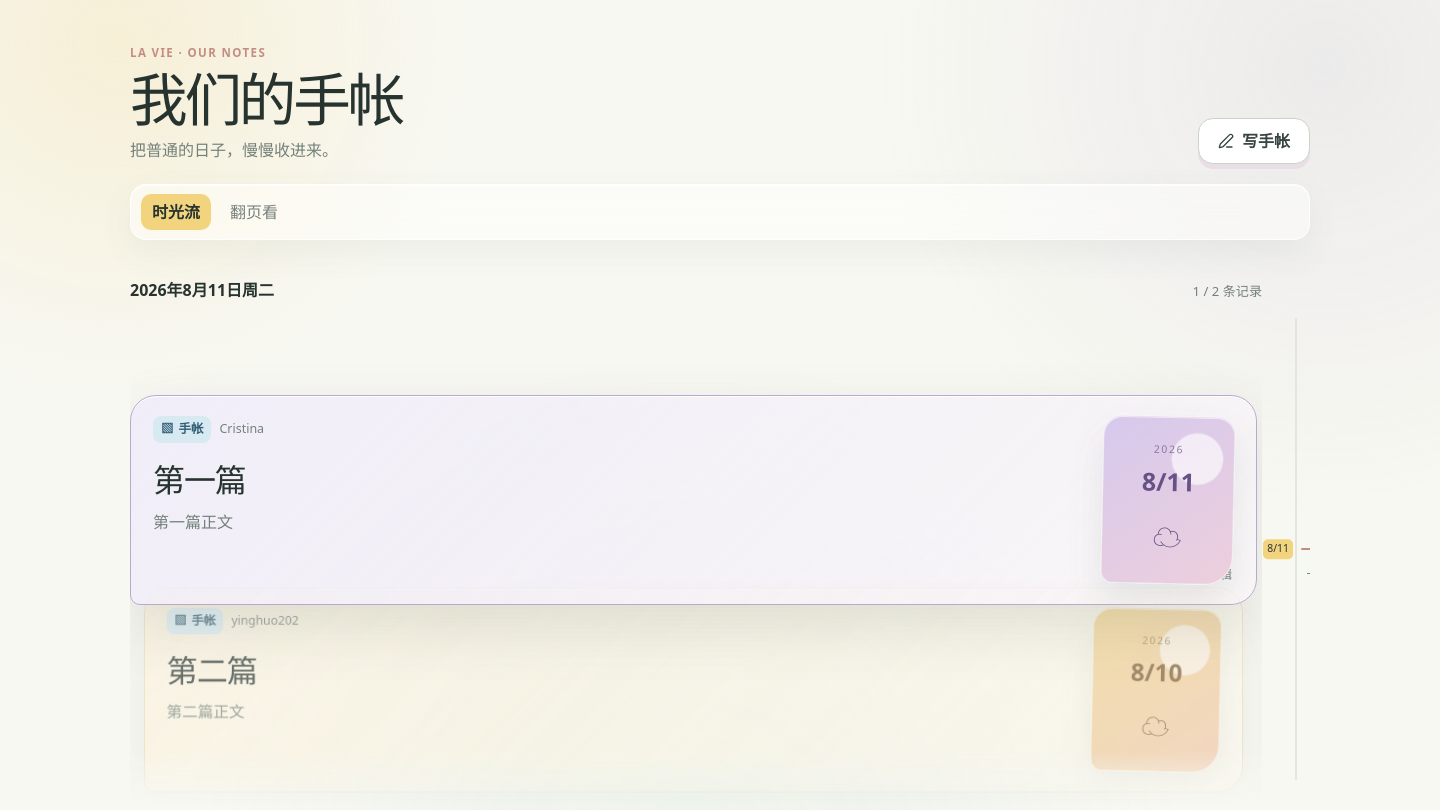
Test: JournalWorkspace › adds a comment directly below the long-pressed paragraph
The width and height of the screenshot is (1440, 810).
Expected: the heading "第一篇" is shown, top-left (153, 458), bottom-right (246, 501)
Click the tab "翻页看" at (254, 212), box top-left (219, 194), bottom-right (289, 230)
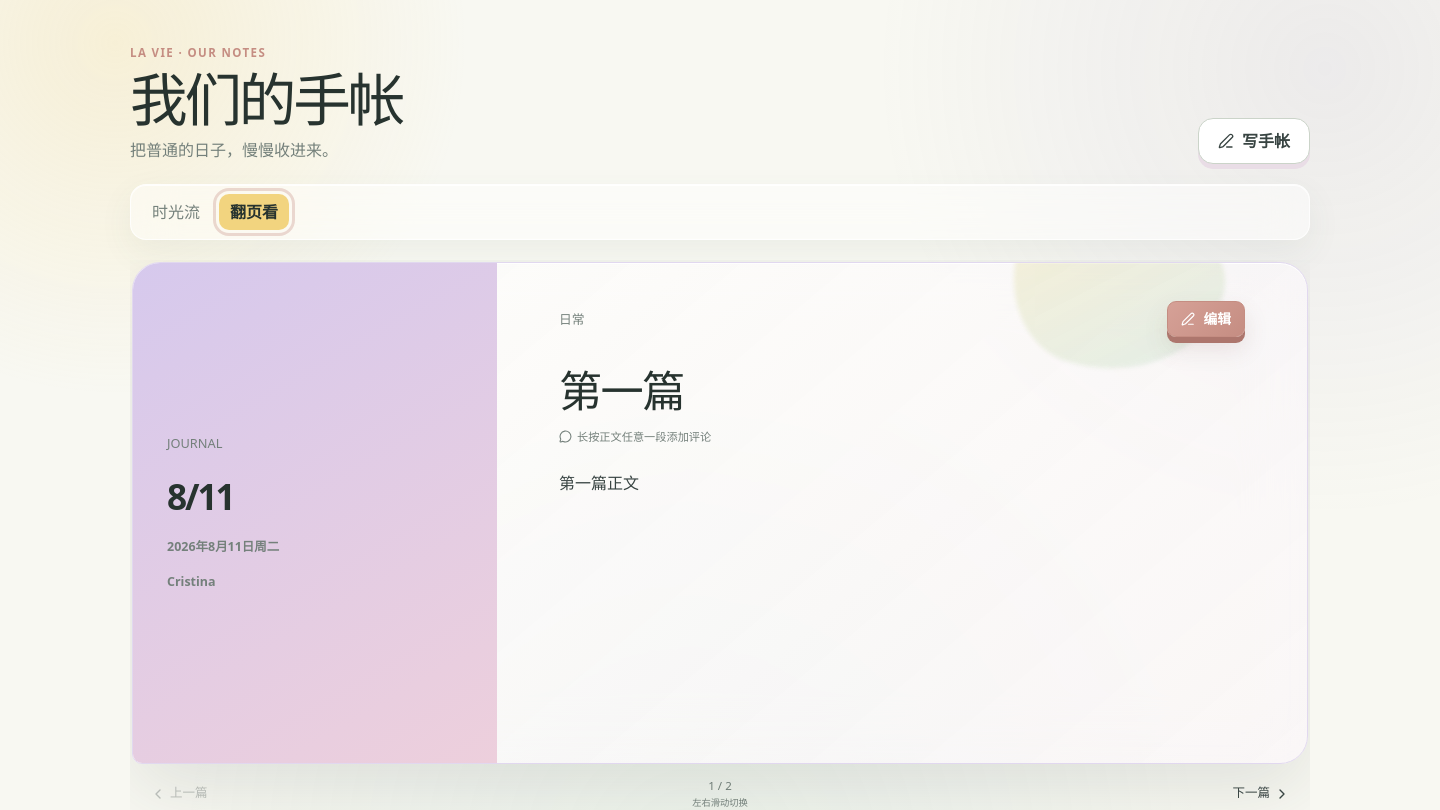
Press the mouse on the element named "正文第 1 段，长按添加评论" at (599, 484), box top-left (559, 475), bottom-right (639, 492)
Wait 530 ms
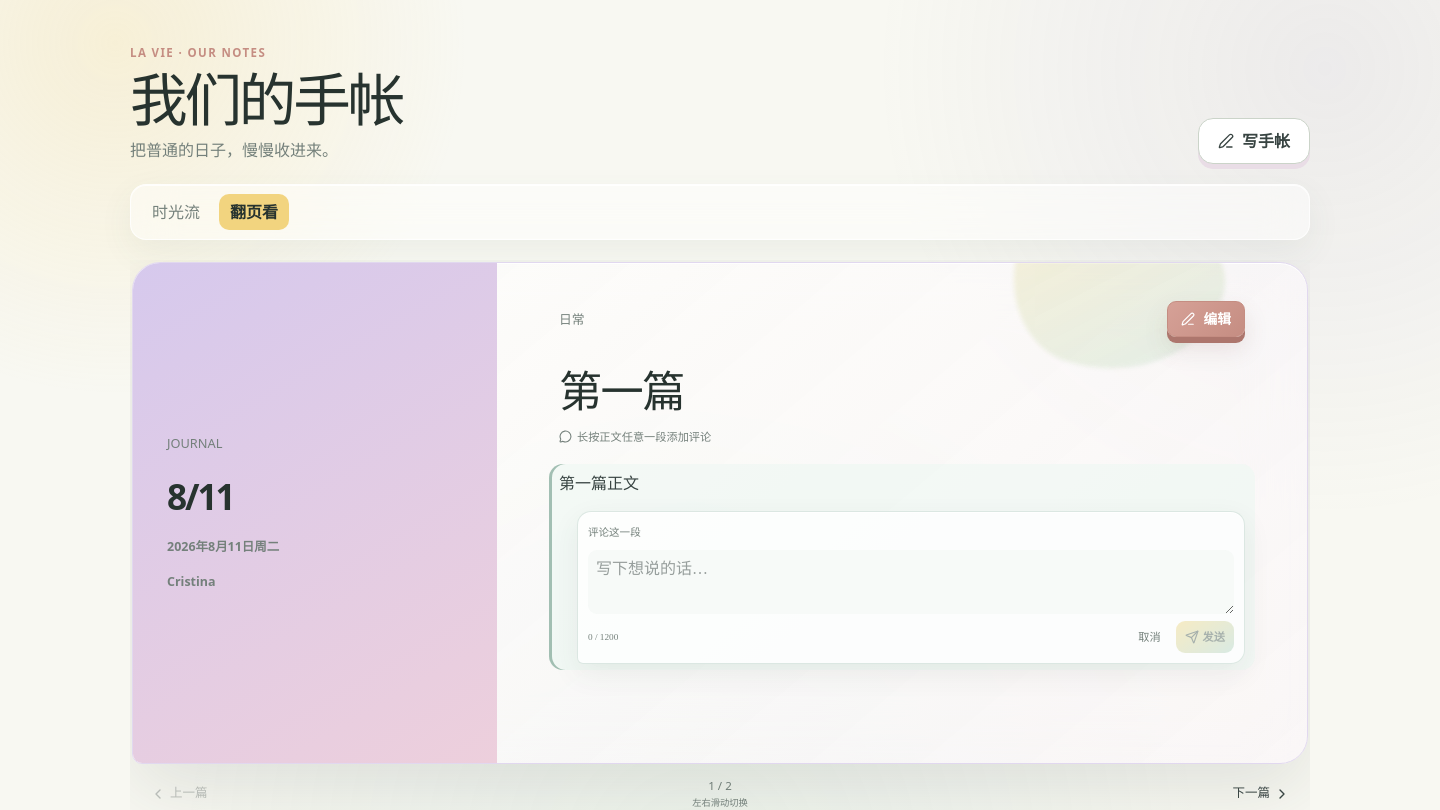
Type "我也记得" into the text box with placeholder "写下想说的话…" at (911, 582), box top-left (588, 550), bottom-right (1234, 614)
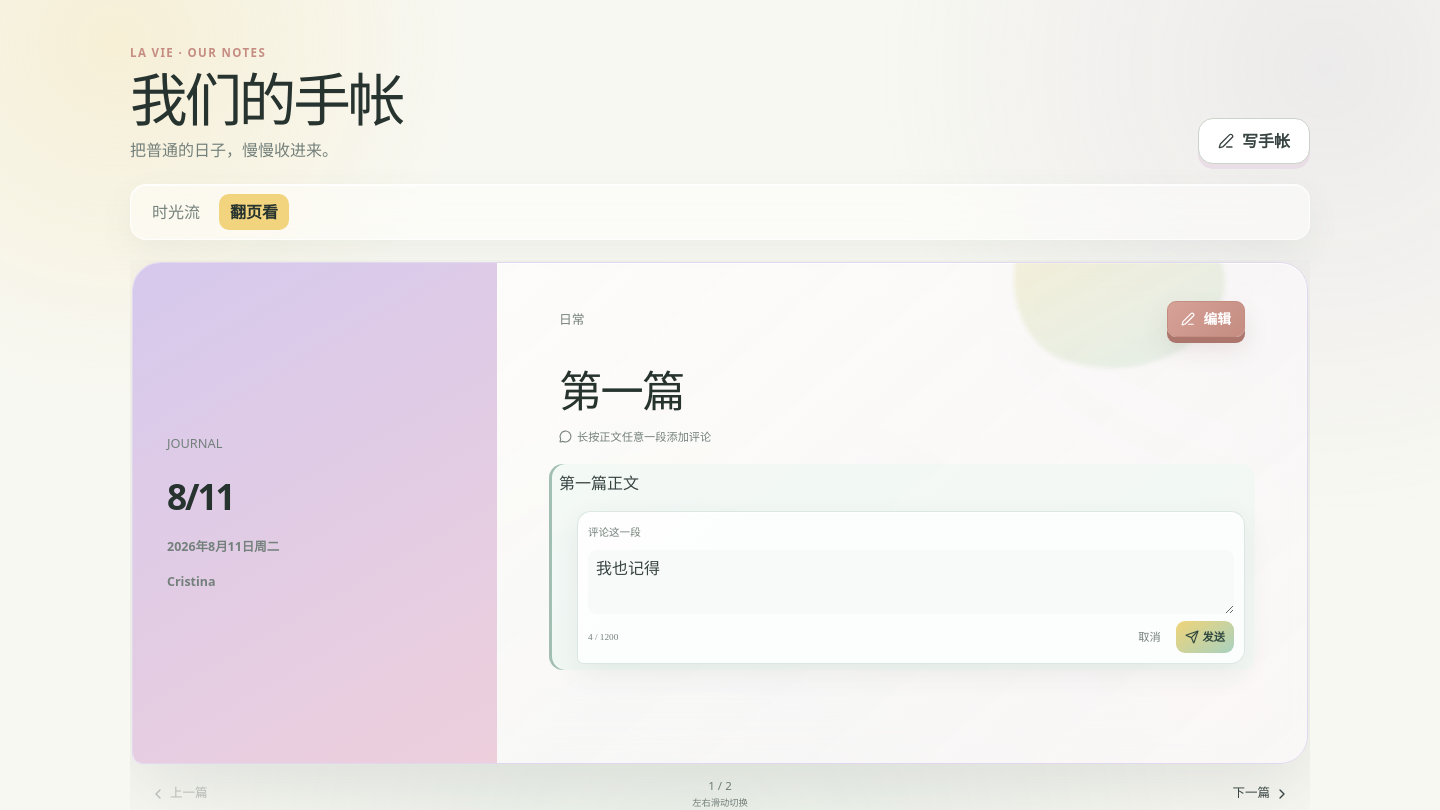
Click the button "发送" at (1205, 637), box top-left (1176, 621), bottom-right (1234, 653)
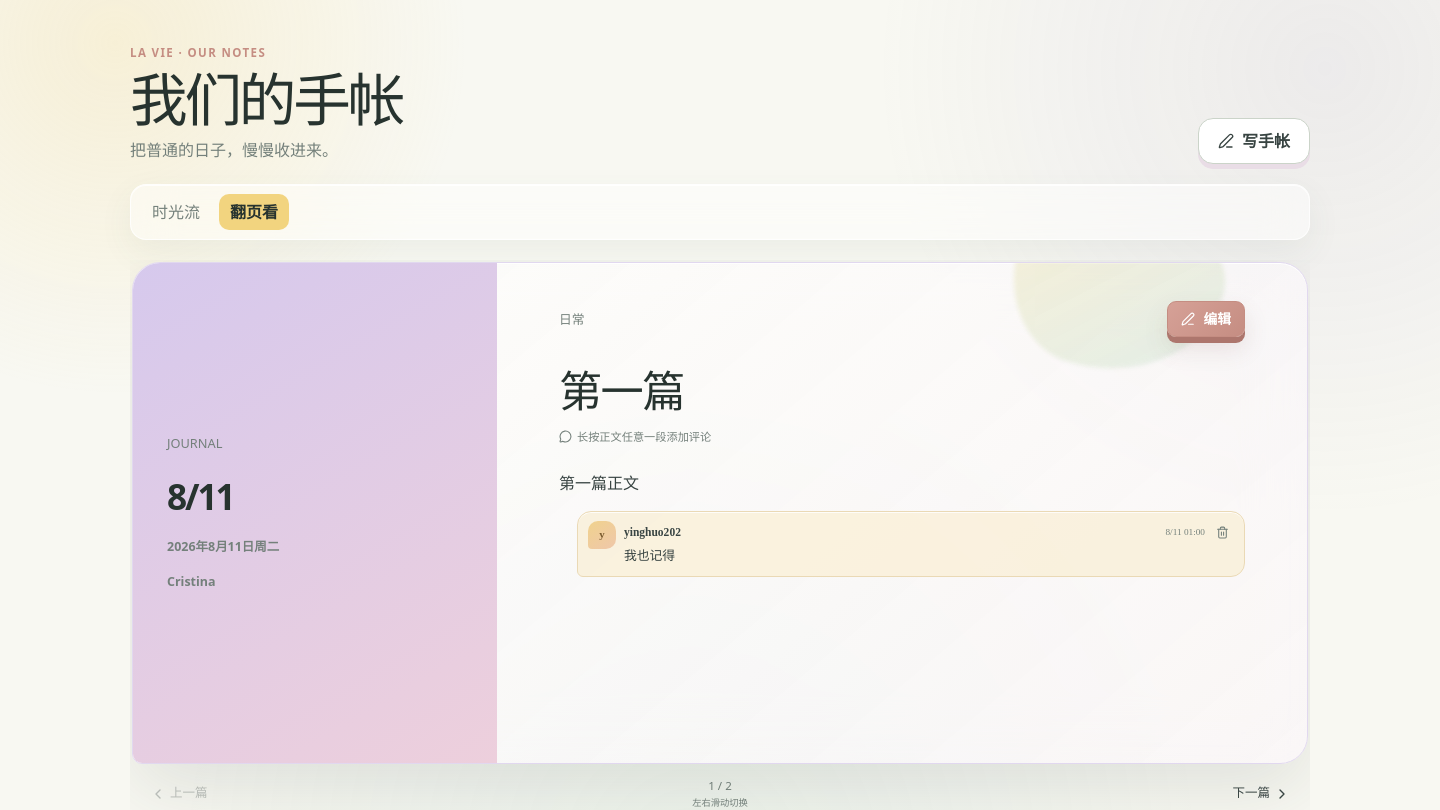
Result: the text "我也记得" is shown at top-left (624, 549), bottom-right (675, 563)
